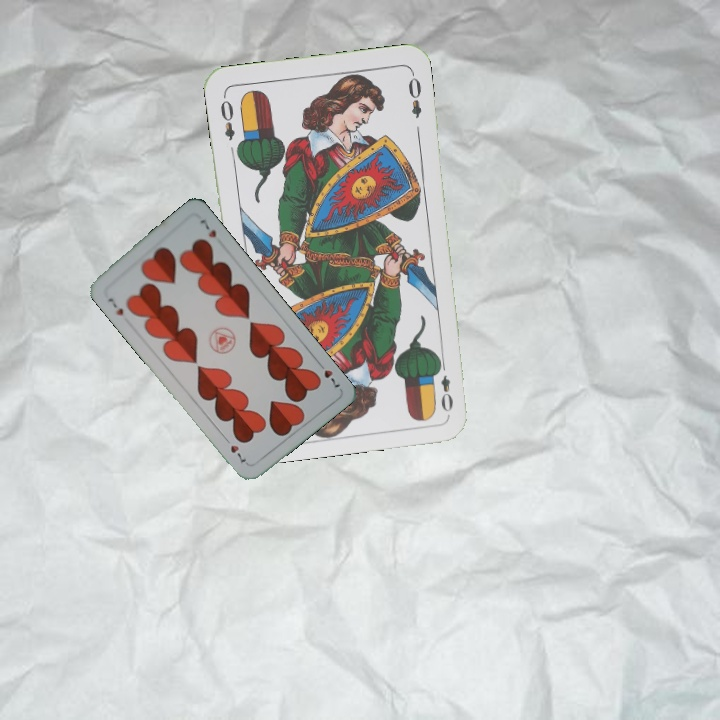EO: (433, 356, 456, 415), (216, 91, 237, 143)
H7: (313, 357, 343, 390), (104, 294, 126, 318)
